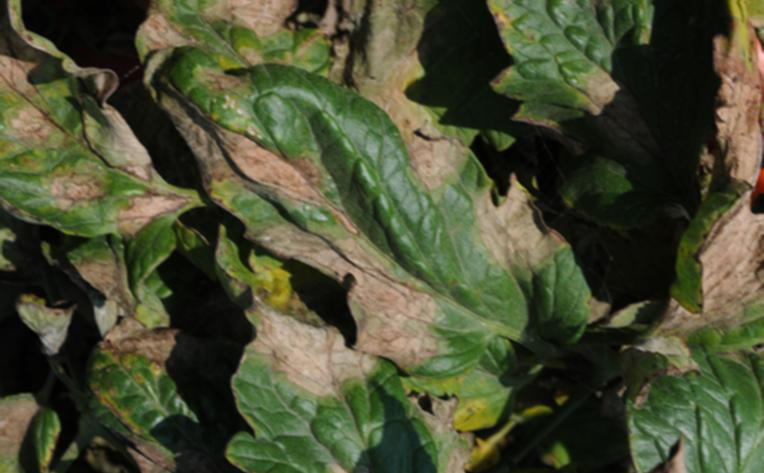Tomato leaf late blight: (147, 24, 604, 369), (213, 286, 509, 473), (0, 0, 204, 252), (474, 0, 714, 190), (619, 115, 764, 410), (593, 349, 764, 473)
